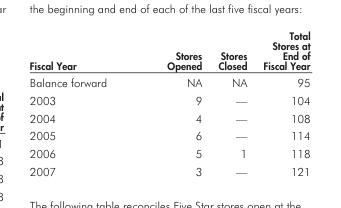table: (28, 28, 309, 177)
table column: (28, 28, 136, 177), (136, 28, 209, 177), (254, 28, 309, 177), (209, 28, 254, 177)
table column header: (28, 28, 309, 90)
table row: (28, 28, 309, 90), (28, 90, 309, 108), (28, 108, 309, 126), (28, 143, 309, 161), (28, 126, 309, 143), (28, 161, 309, 177)
